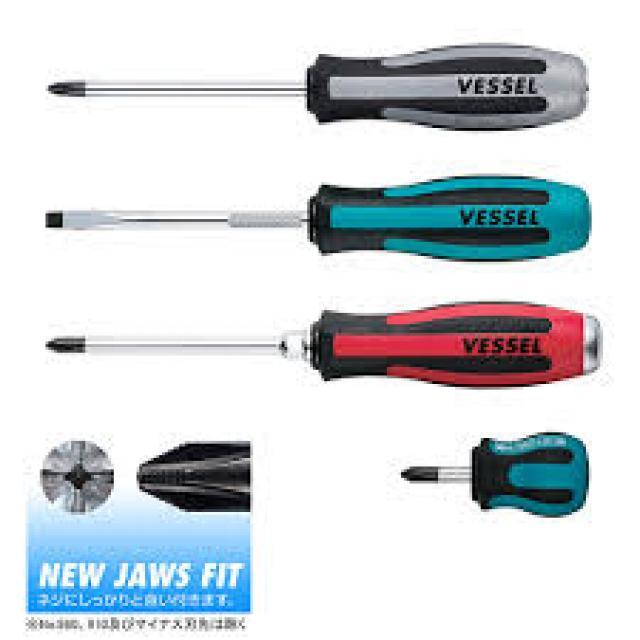screwdriver: (39, 39, 594, 138), (40, 297, 618, 391), (38, 170, 593, 264), (394, 429, 593, 524)
